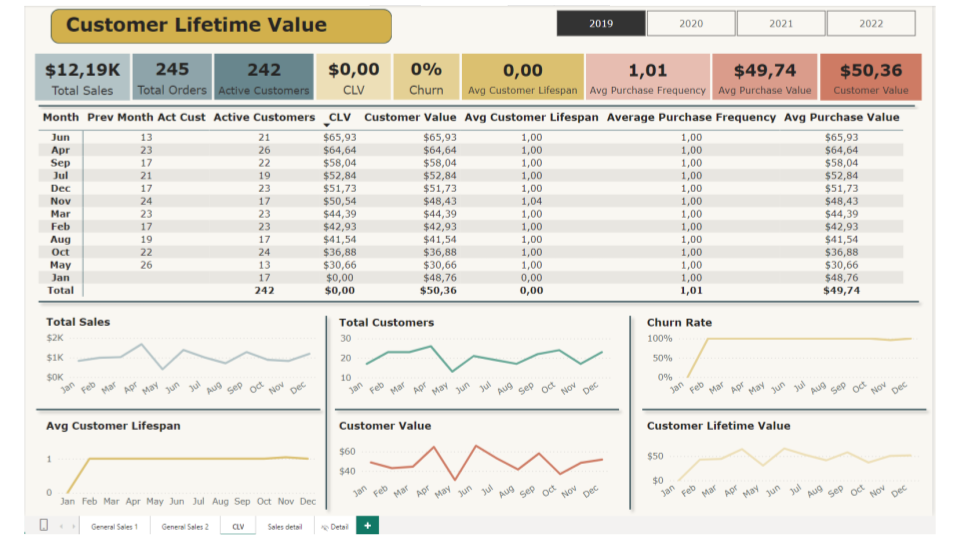

Layout of this report page (visuals, bound fields, positions):
{"tool":"powerbi","page":{"name":"CLV ","canvas":[1280,720],"ordinal":2},"visuals":[{"type":"card","fields":{"Values":["medidas_CVL.CLV"]},"box":[410.4,67.8,105.5,65.5],"z":0},{"type":"card","fields":{"Values":["medidas_CVL.Total Distinct Orders"]},"box":[151.3,67.8,111.8,65.5],"z":1000},{"type":"card","fields":{"Values":["medidas_CVL.Average Purchase Value"]},"box":[969.5,67.8,148.2,65.5],"z":2000},{"type":"card","fields":{"Values":["medidas_CVL.Churn Rate"]},"box":[519.5,67.8,92.7,65.5],"z":3000},{"type":"card","fields":{"Values":["medidas_CVL.Average Customer Lifespan"]},"box":[615.9,67.8,171.8,65.5],"z":4000},{"type":"card","fields":{"Values":["Medidas.Num Customers"]},"box":[266.8,67.8,140,65.5],"z":5000},{"type":"card","fields":{"Values":["medidas_CVL.Customer Value"]},"box":[1121.6,67.7,143.1,65.9],"z":6000},{"type":"card","fields":{"Values":["medidas_CVL.Average Purchase Frequency"]},"box":[791.3,67.8,174.5,65.5],"z":7000},{"type":"card","fields":{"Values":["Medidas.Total Sales"]},"box":[13.9,67.7,133.6,65.9],"z":8000},{"type":"shape","box":[36,5,481.5,48.8],"z":9000},{"type":"textbox","box":[52,5,427.4,49.7],"z":10000},{"type":"slicer","fields":{"Values":["tbl_Dates.Year"]},"box":[723.8,0,556.2,50],"z":11000},{"type":"pivotTable","fields":{"Rows":["tbl_Dates.Month"],"Values":["medidas_CVL.Previous Month Active Customers","Medidas.Num Customers","medidas_CVL.CLV","medidas_CVL.Customer Value","medidas_CVL.Average Customer Lifespan","medidas_CVL.Average Purchase Frequency","medidas_CVL.Average Purchase Value"]},"box":[13.8,141.2,1260,290],"z":12000},{"type":"lineChart","title":"Total Sales ","fields":{"Category":["tbl_Dates.Month"],"Y":["Medidas.Total Sales"]},"box":[24.8,437.2,393.3,133.3],"z":13000},{"type":"lineChart","title":"Total Customers","fields":{"Category":["tbl_Dates.Month"],"Y":["Medidas.Num Customers"]},"box":[437.7,437.5,393,133],"z":14000},{"type":"lineChart","title":"Churn Rate ","fields":{"Category":["tbl_Dates.Month"],"Y":["medidas_CVL.Churn Rate"]},"box":[872.5,437.5,393.8,132.5],"z":15000},{"type":"lineChart","title":"Avg Customer Lifespan ","fields":{"Category":["tbl_Dates.Month"],"Y":["medidas_CVL.Average Customer Lifespan"]},"box":[24.8,583.7,393.3,133],"z":16000},{"type":"lineChart","title":"Customer Value","fields":{"Category":["tbl_Dates.Month"],"Y":["medidas_CVL.Customer Value"]},"box":[437.7,583.8,393,133],"z":17000},{"type":"lineChart","title":"Customer Lifetime Value","fields":{"Category":["tbl_Dates.Month"],"Y":["medidas_CVL.CLV"]},"box":[872.5,583.8,393.8,132.5],"z":18000},{"type":"shape","box":[10,132.9,1254.3,14.3],"z":19000},{"type":"shape","box":[10,392.5,1260,50],"z":20000},{"type":"shape","box":[827.5,428.8,52.5,291.2],"z":21000},{"type":"shape","box":[861.2,545,418.8,50],"z":22000},{"type":"shape","box":[427.5,545,418.8,50],"z":23000},{"type":"shape","box":[398.8,428.8,52.5,291.2],"z":24000},{"type":"shape","box":[6.2,545,418.8,50],"z":25000}]}

Visuals, with their boxes on the page's 1280x720 design canvas (x1, y1, x2, y2). These are canvas units, not pixel positions in the 960x540 screenshot, which may show the page scaled, cropped or inside an application window:
card - medidas_CVL.CLV: rect(410, 68, 516, 133)
card - medidas_CVL.Total Distinct Orders: rect(151, 68, 263, 133)
card - medidas_CVL.Average Purchase Value: rect(970, 68, 1118, 133)
card - medidas_CVL.Churn Rate: rect(520, 68, 612, 133)
card - medidas_CVL.Average Customer Lifespan: rect(616, 68, 788, 133)
card - Medidas.Num Customers: rect(267, 68, 407, 133)
card - medidas_CVL.Customer Value: rect(1122, 68, 1265, 134)
card - medidas_CVL.Average Purchase Frequency: rect(791, 68, 966, 133)
card - Medidas.Total Sales: rect(14, 68, 148, 134)
shape: rect(36, 5, 518, 54)
textbox: rect(52, 5, 479, 55)
slicer - tbl_Dates.Year: rect(724, 0, 1280, 50)
pivotTable - tbl_Dates.Month x medidas_CVL.Previous Month Active Customers: rect(14, 141, 1274, 431)
"Total Sales " lineChart: rect(25, 437, 418, 570)
"Total Customers" lineChart: rect(438, 438, 831, 570)
"Churn Rate " lineChart: rect(872, 438, 1266, 570)
"Avg Customer Lifespan " lineChart: rect(25, 584, 418, 717)
"Customer Value" lineChart: rect(438, 584, 831, 717)
"Customer Lifetime Value" lineChart: rect(872, 584, 1266, 716)
shape: rect(10, 133, 1264, 147)
shape: rect(10, 392, 1270, 442)
shape: rect(828, 429, 880, 720)
shape: rect(861, 545, 1280, 595)
shape: rect(428, 545, 846, 595)
shape: rect(399, 429, 451, 720)
shape: rect(6, 545, 425, 595)
